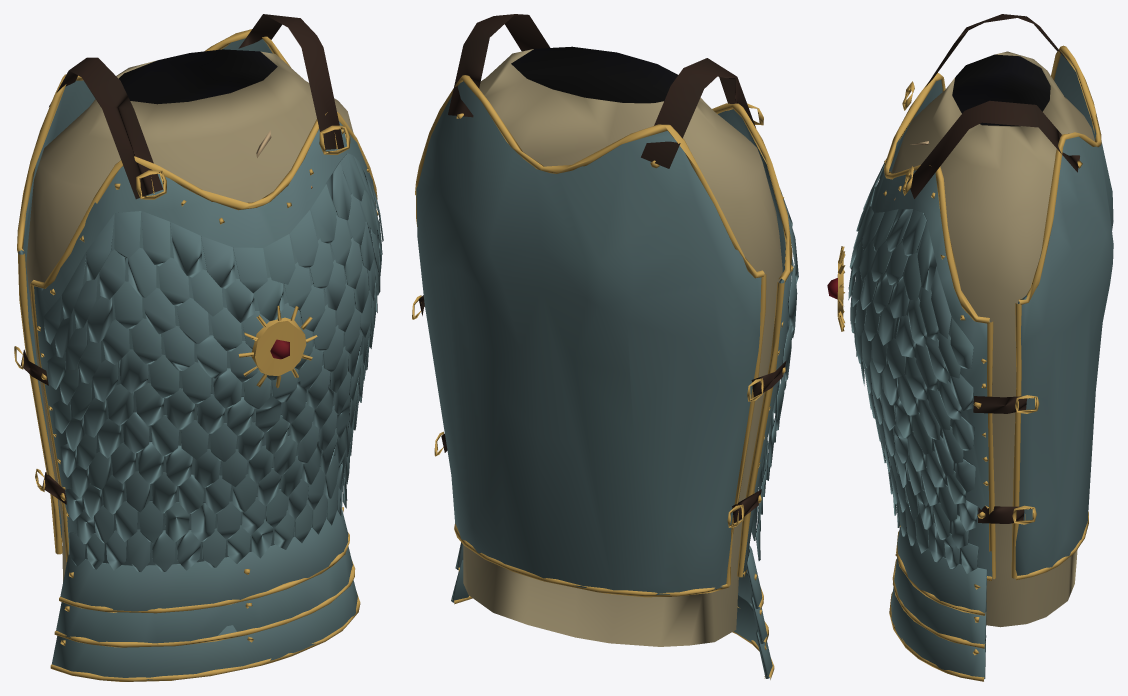
The picture shows the model from 3 angles, left to right: view 1: azimuth 30°, elevation 25°; view 2: azimuth 150°, elevation 25°; view 3: azimuth 270°, elevation 25°; orthographic projection. The views are drawn at different scales.
Visible parts, largest first — view 1: blued scale plate, quilted linen lining; view 2: blued scale plate, quilted linen lining; view 3: blued scale plate, quilted linen lining.
Part boxes in pixels (bbox=[...]): blued scale plate: bbox=[14, 29, 383, 681]; quilted linen lining: bbox=[20, 14, 353, 581]; blued scale plate: bbox=[412, 75, 798, 679]; quilted linen lining: bbox=[419, 14, 786, 646]; blued scale plate: bbox=[837, 45, 1113, 681]; quilted linen lining: bbox=[827, 14, 1094, 627].
Size of the model in its own units: 0.3921 by 0.6462 by 0.3028.
